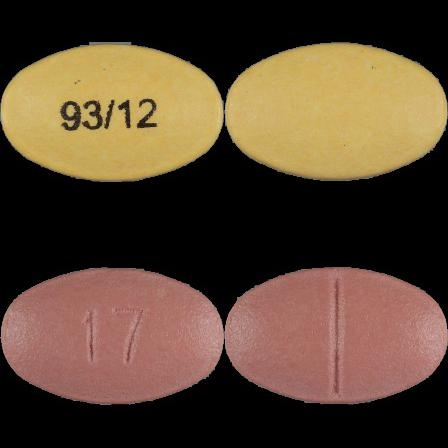0093-0012: (0, 0, 224, 224)
